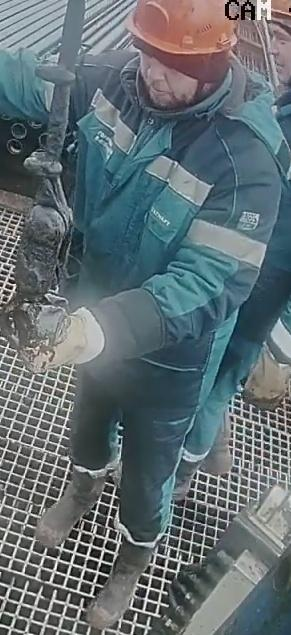gloves: (21, 305, 116, 376)
helmet: (124, 0, 238, 55)
vest: (64, 60, 288, 411)
